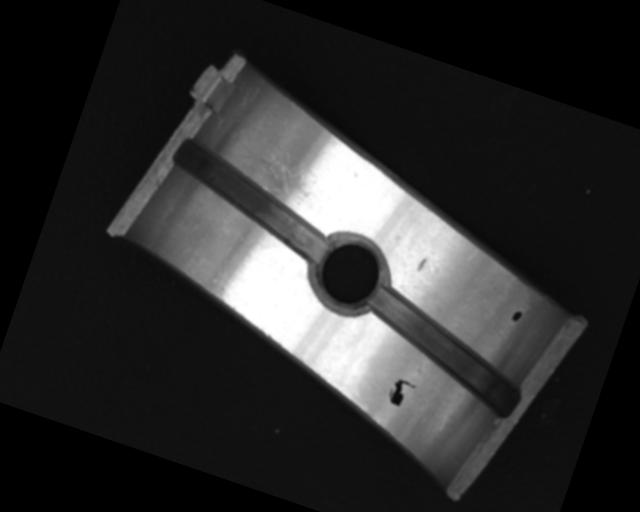blot: (385, 376, 417, 411), (510, 309, 524, 323)
bruise: (415, 256, 428, 274)
gap: (347, 283, 541, 420), (157, 137, 346, 265)
hole: (302, 225, 397, 321)
scratch: (213, 124, 327, 208)
